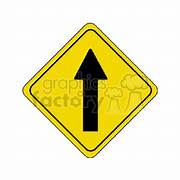forward: (22, 22, 159, 156)
